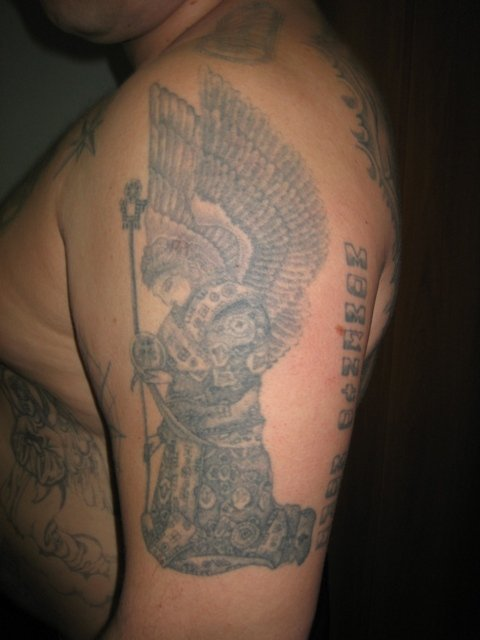tatu1_angel: (124, 86, 316, 586)
